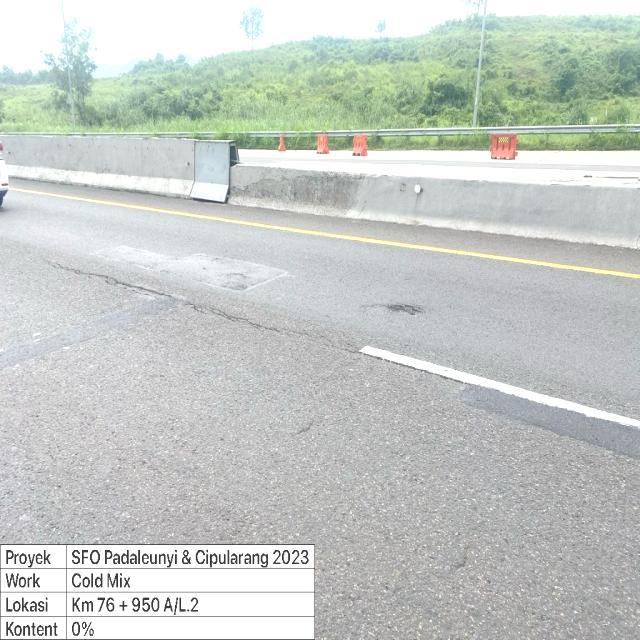Buraco: (369, 301, 426, 319)
